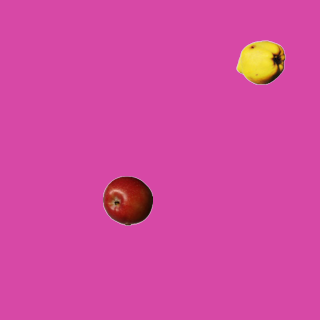Apple Braeburn: (102, 175, 152, 225)
Quince: (235, 37, 285, 87)
